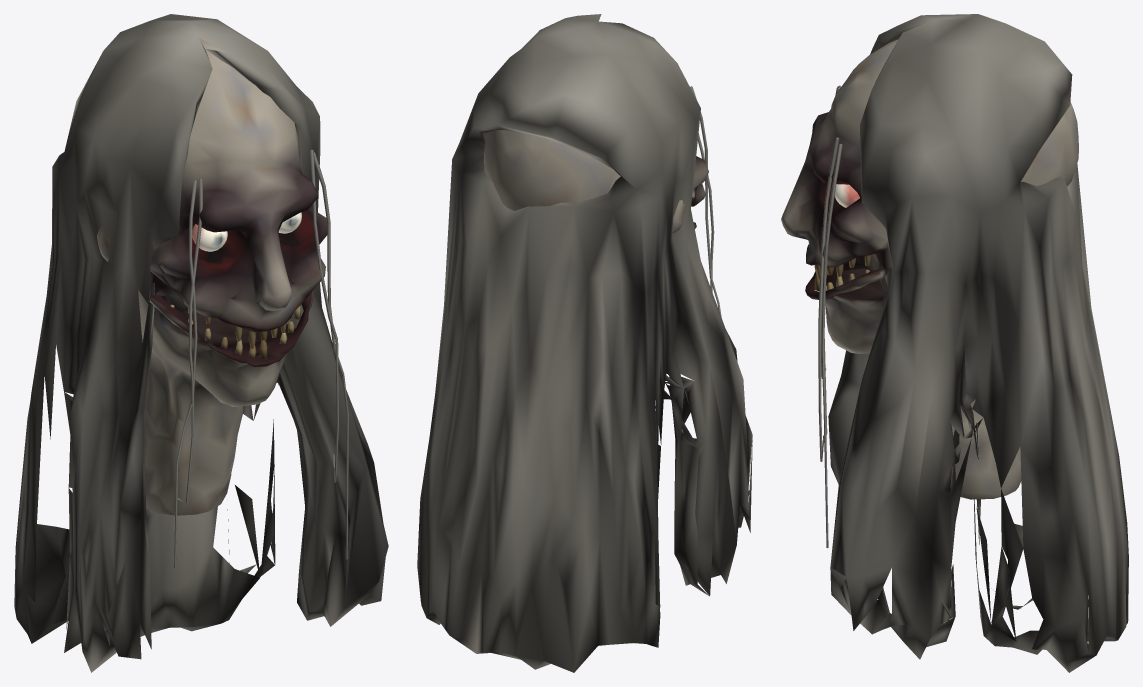
Rendered from widow_head.glb.
3 renders of one model, left to right at view 1: azimuth 30°, elevation 25°; view 2: azimuth 150°, elevation 25°; view 3: azimuth 270°, elevation 25°, orthographic. The views are drawn at different scales.
Parts seen in each view (by area): view 1: widow_head; view 2: widow_head; view 3: widow_head.
Part boxes in pixels (left/top/right/bottom): widow_head: left=14, top=14, right=388, bottom=672; widow_head: left=417, top=14, right=752, bottom=672; widow_head: left=781, top=14, right=1128, bottom=672.
Size of the model in its own units: 0.2324 by 0.5041 by 0.2577.
